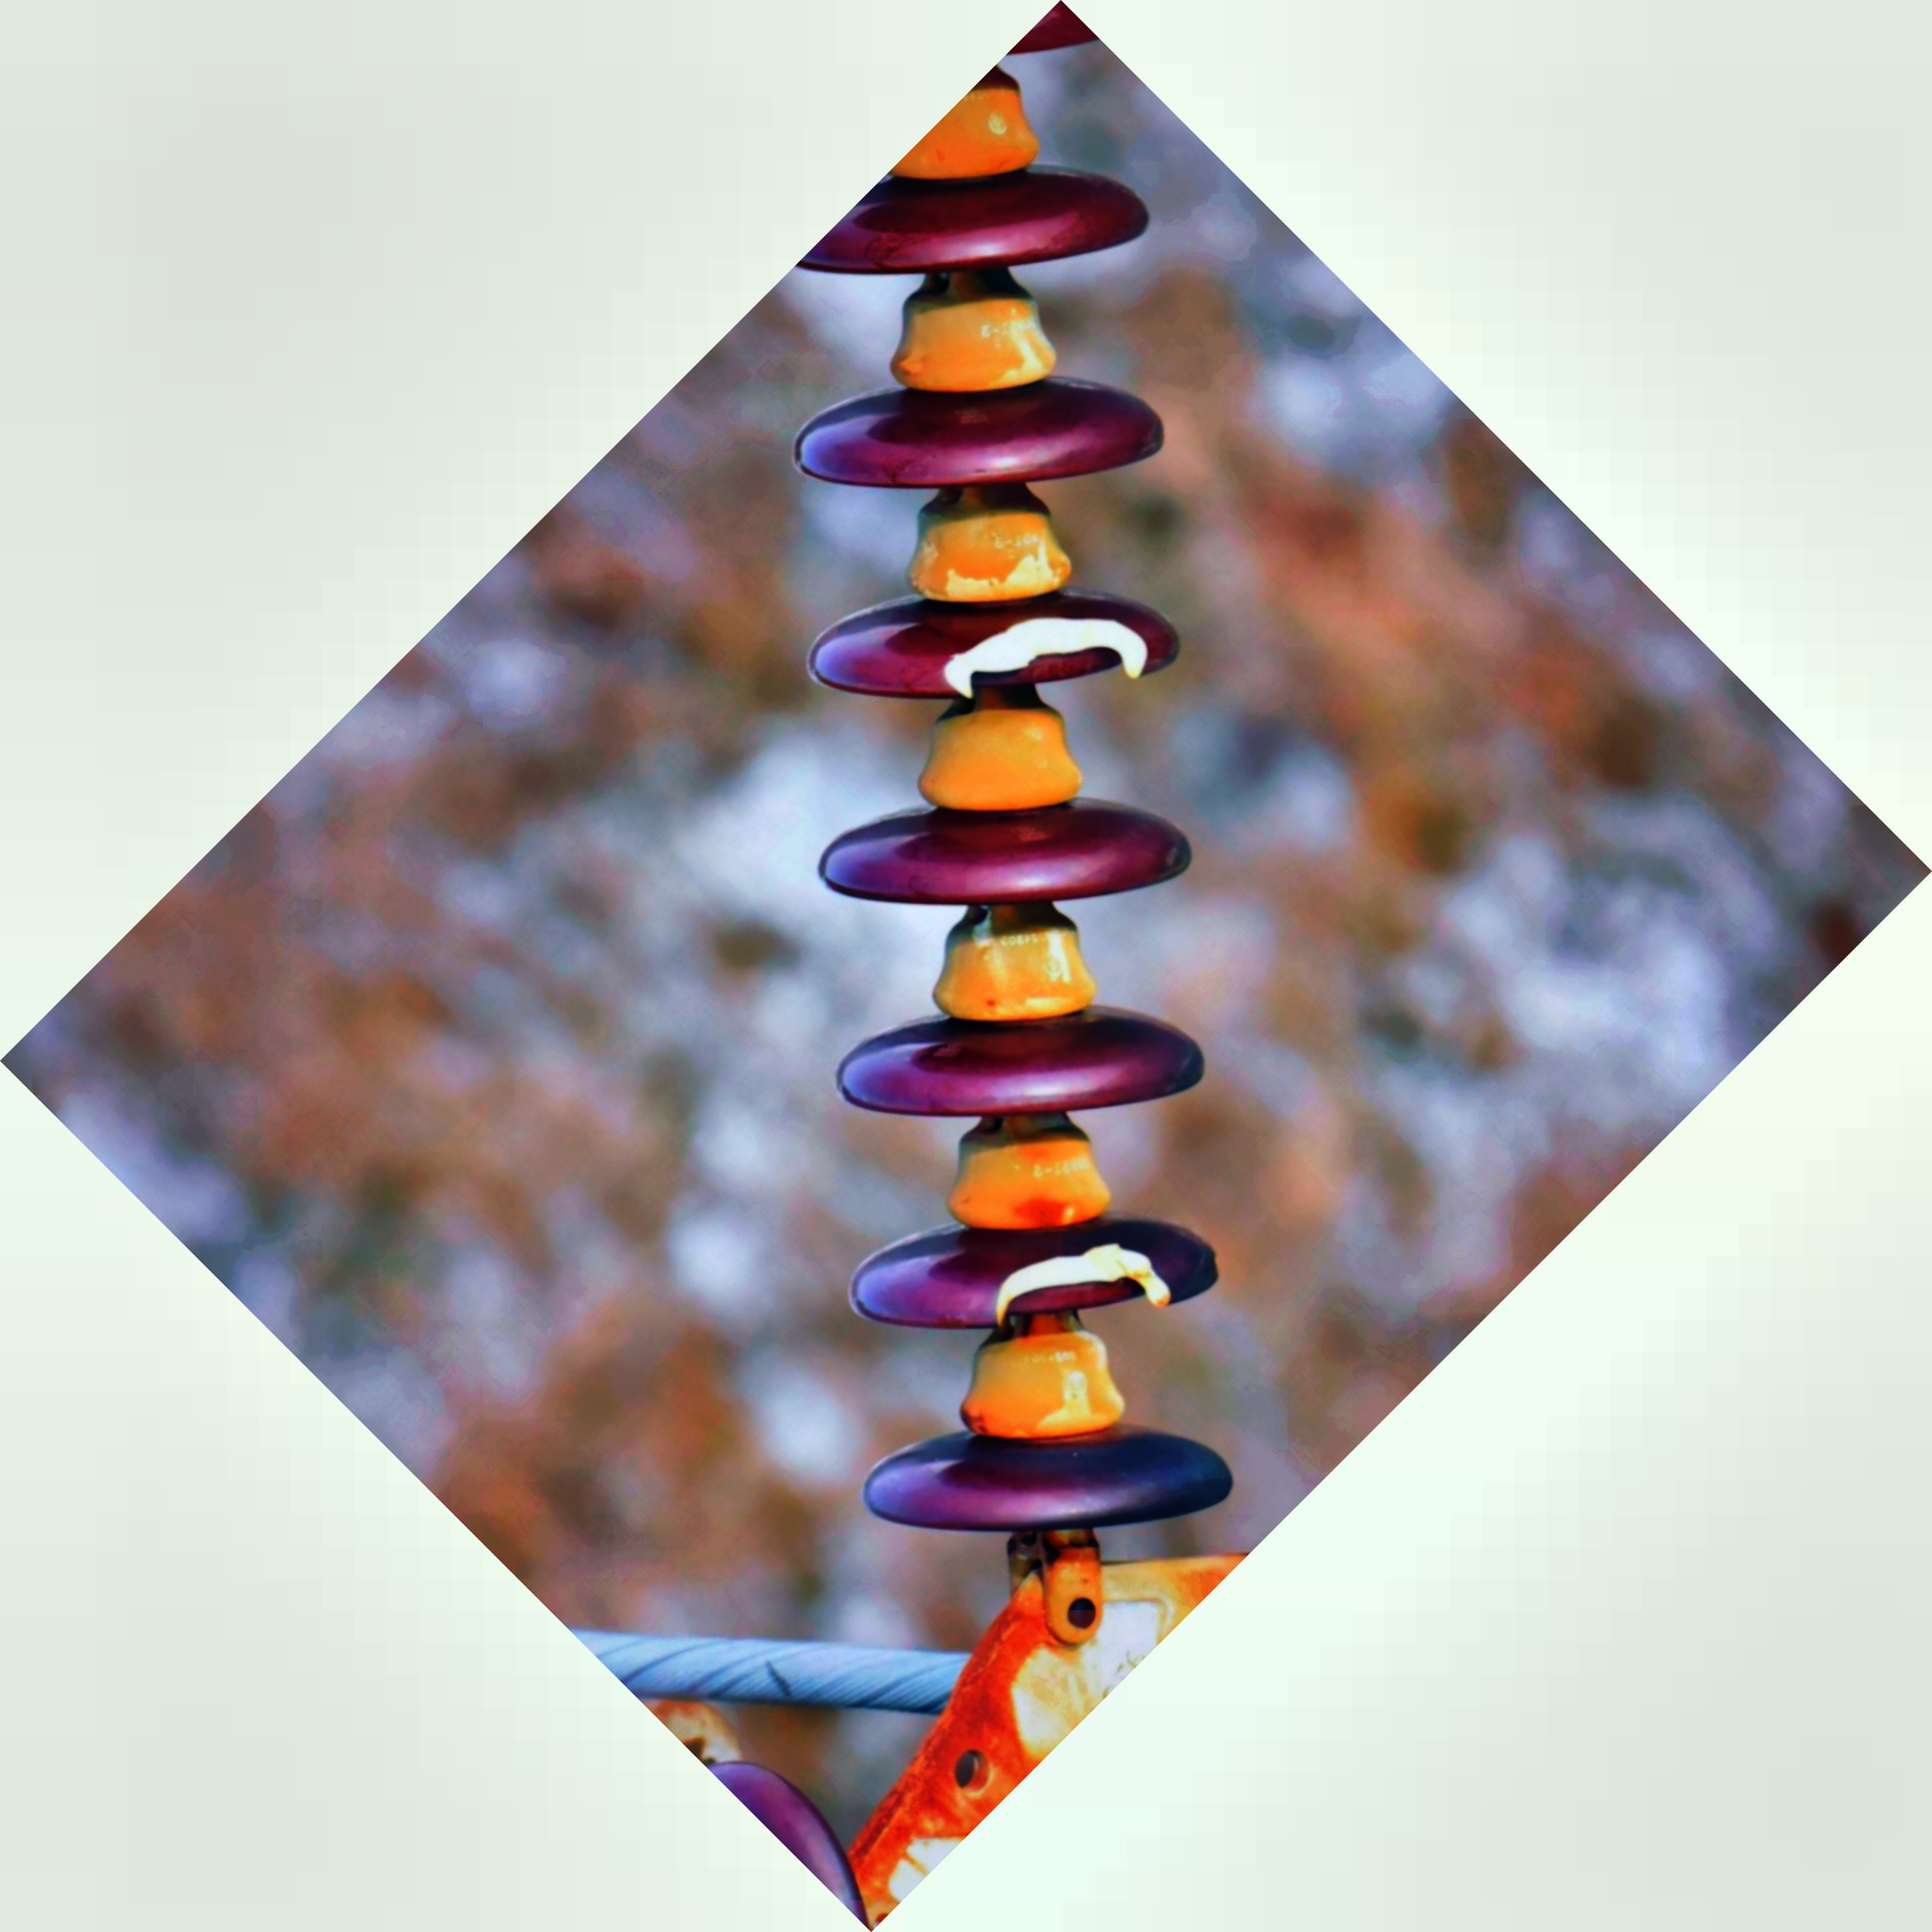insulator breakage: (832, 1203, 1238, 1350), (801, 582, 1201, 711)
